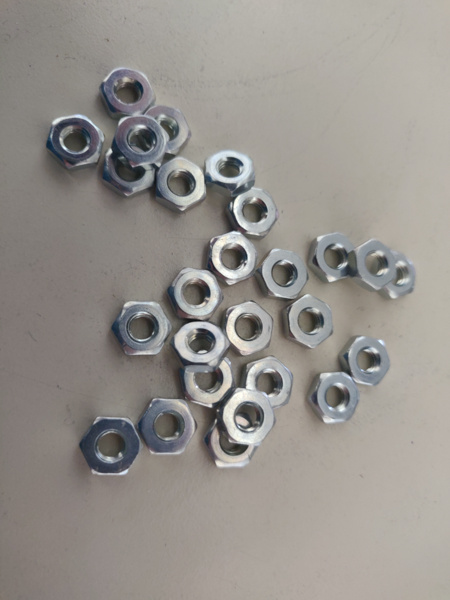nut: (78, 416, 141, 476), (112, 299, 172, 357), (44, 115, 106, 170), (97, 66, 159, 119), (151, 155, 207, 212), (141, 401, 198, 455), (172, 266, 226, 319), (208, 229, 260, 284), (282, 296, 335, 349), (113, 111, 168, 162), (226, 389, 275, 446), (223, 301, 274, 355), (173, 321, 228, 371), (308, 369, 358, 424), (257, 246, 308, 299), (242, 357, 293, 409), (186, 357, 237, 407), (146, 104, 196, 155), (341, 334, 390, 386), (228, 185, 278, 235), (207, 417, 258, 466), (312, 231, 355, 285), (105, 149, 153, 196), (354, 237, 397, 289), (208, 149, 256, 195), (385, 251, 416, 301)
